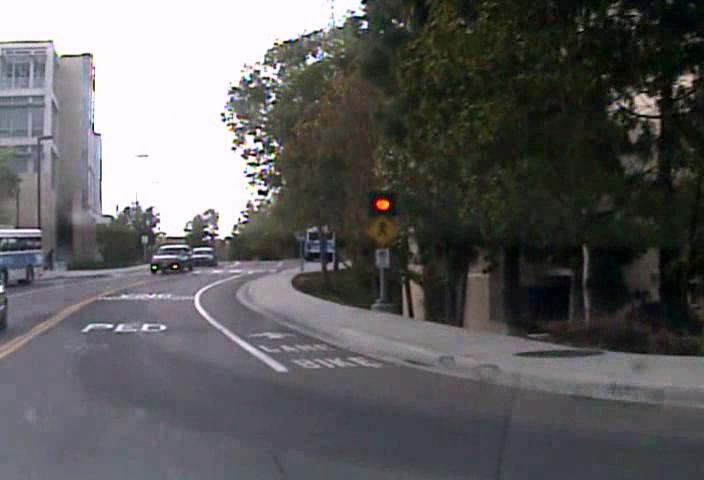pedestrianCrossing: (365, 215, 399, 246)
